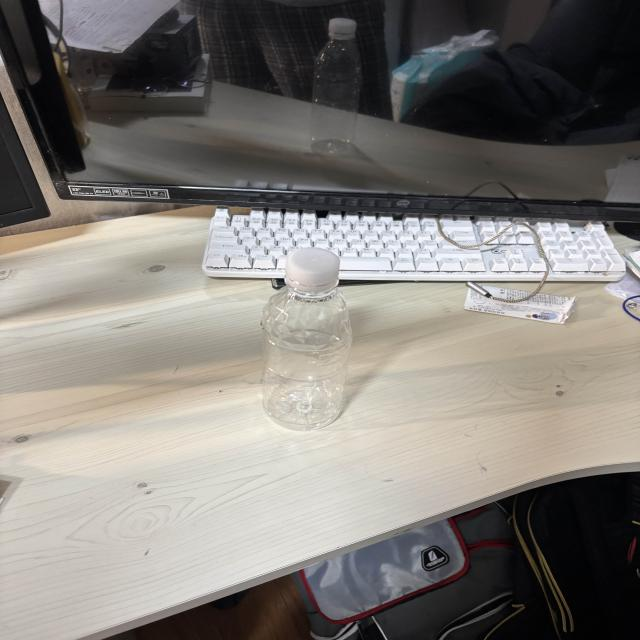Plastic: (242, 241, 357, 438)
